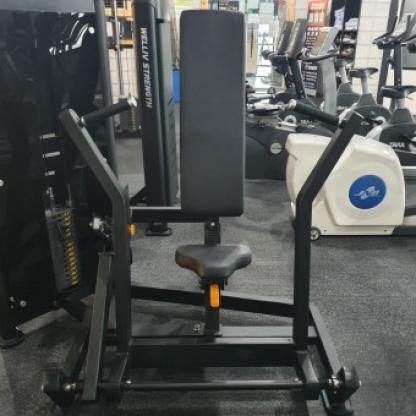Chest Press machine: (6, 0, 375, 416)
